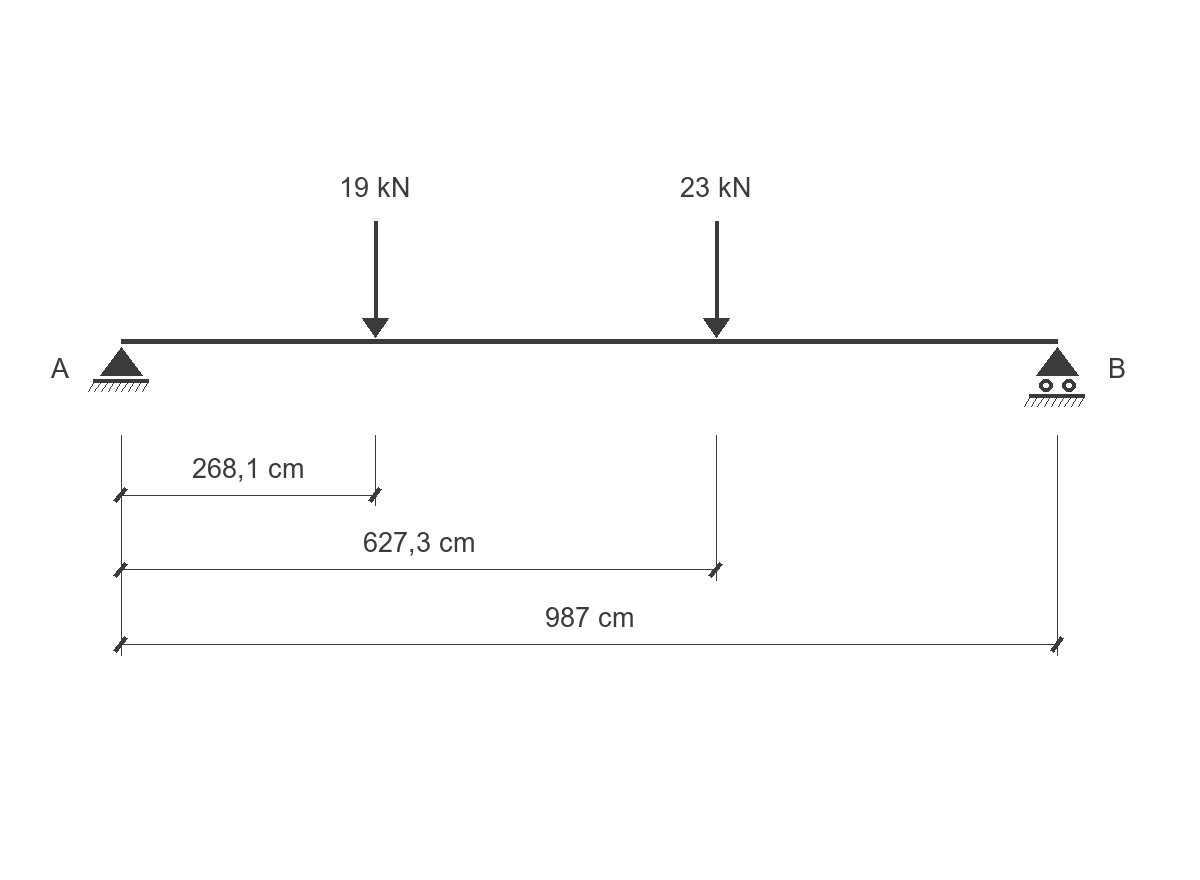pin_support: (88, 347, 149, 392)
point_load: (362, 221, 389, 338), (703, 221, 730, 338)
roller_support: (1024, 347, 1085, 407)
